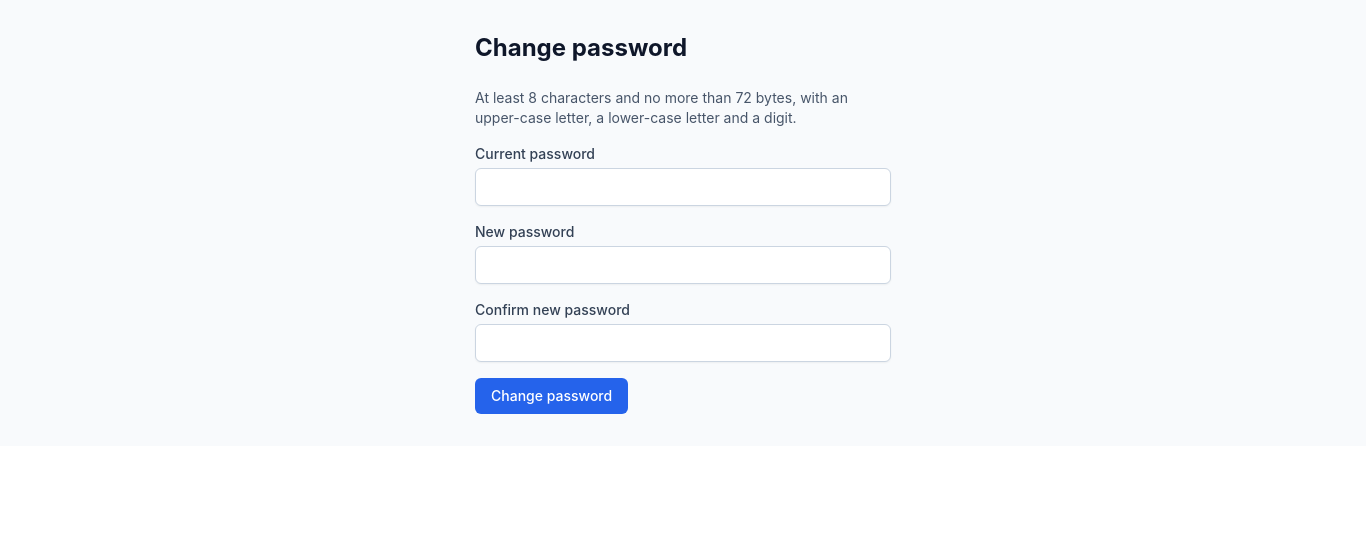
Scenario: ChangePasswordPage › shows the fixed sentence for no-password (HTTP 403) and no server text
In the password field with test id "current-password-input": (683, 187) [475,168,891,206], type "OldPass1"
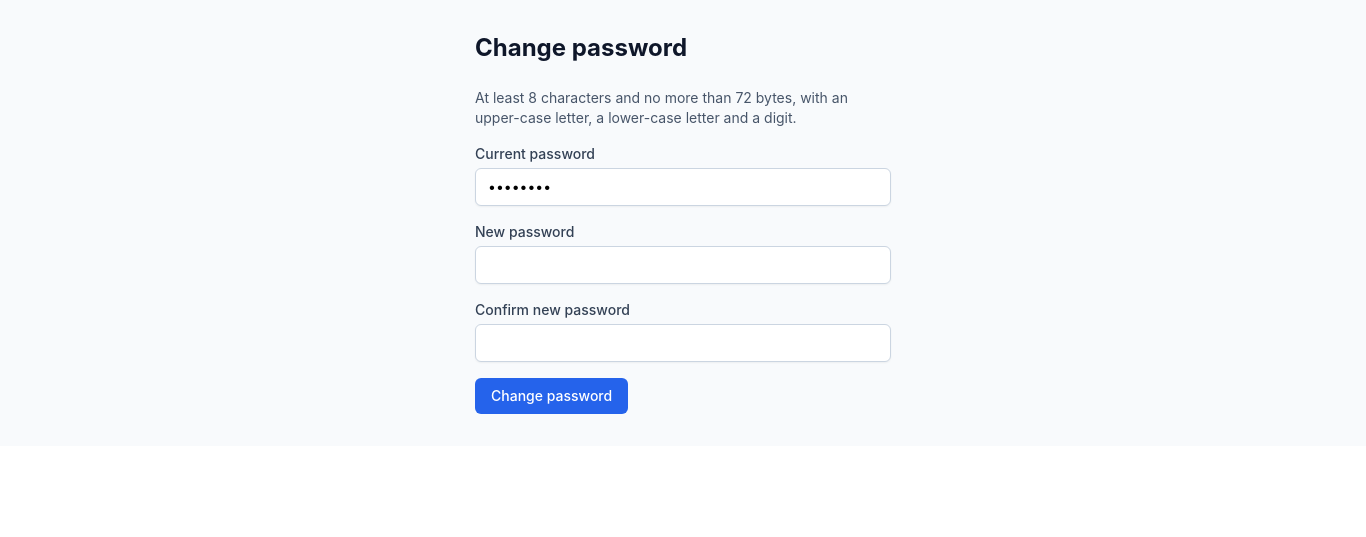
In the password field with test id "new-password-input": (683, 265) [475,246,891,284], type "NewPass12"
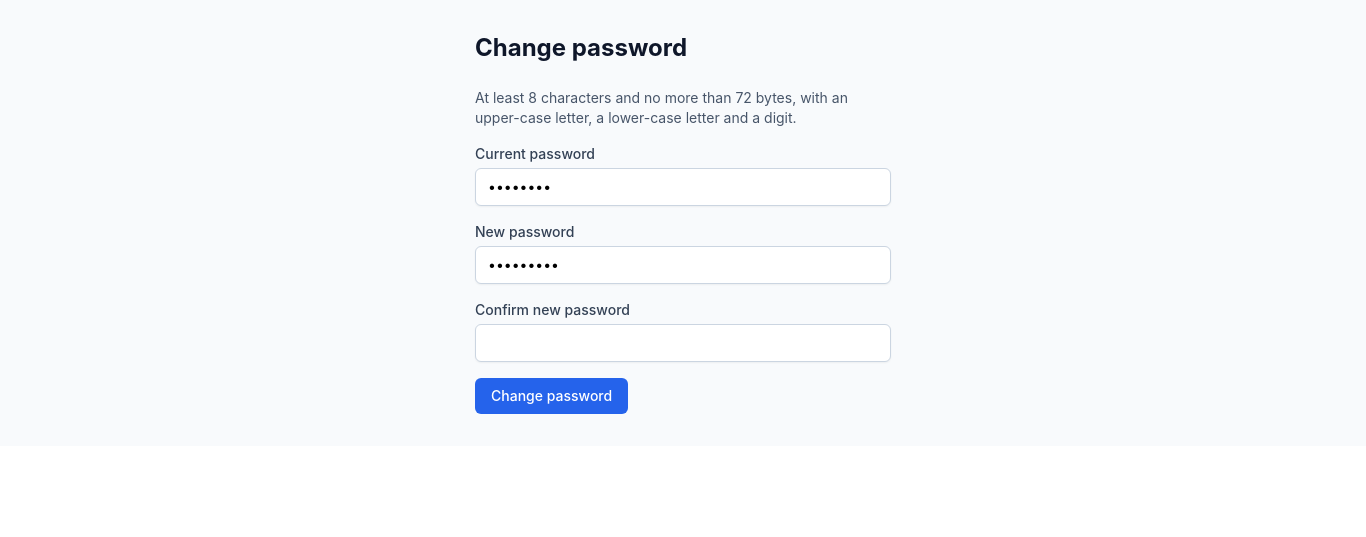
In the password field with test id "confirm-password-input": (683, 343) [475,324,891,362], type "NewPass12"
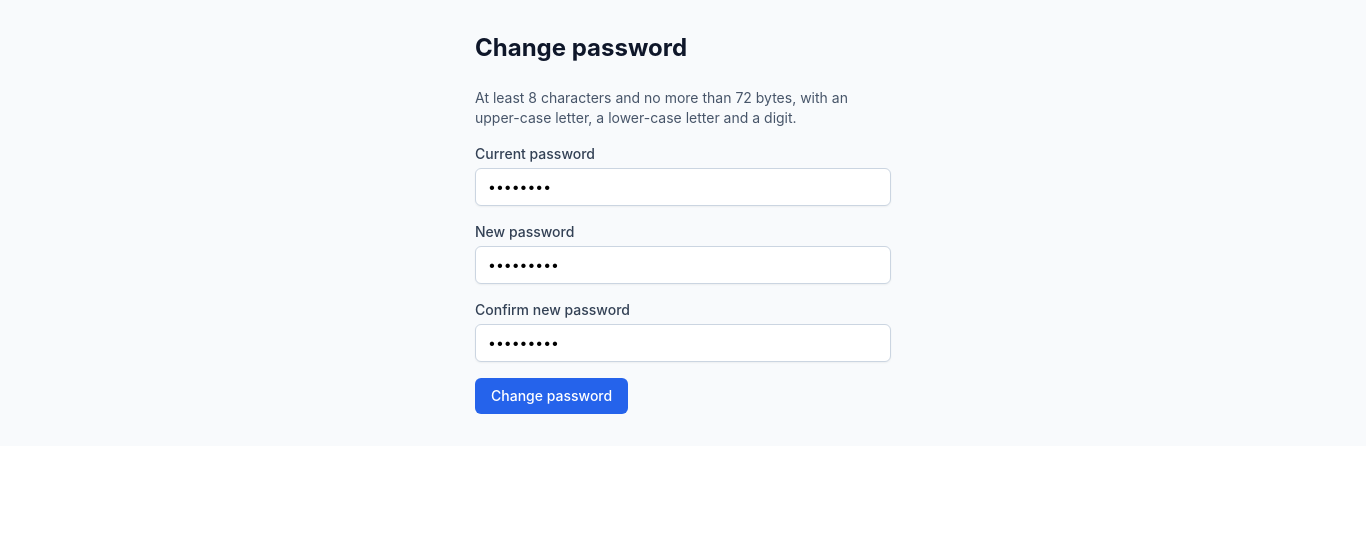
Click the button with test id "change-password-submit": (552, 396) [475,378,628,414]
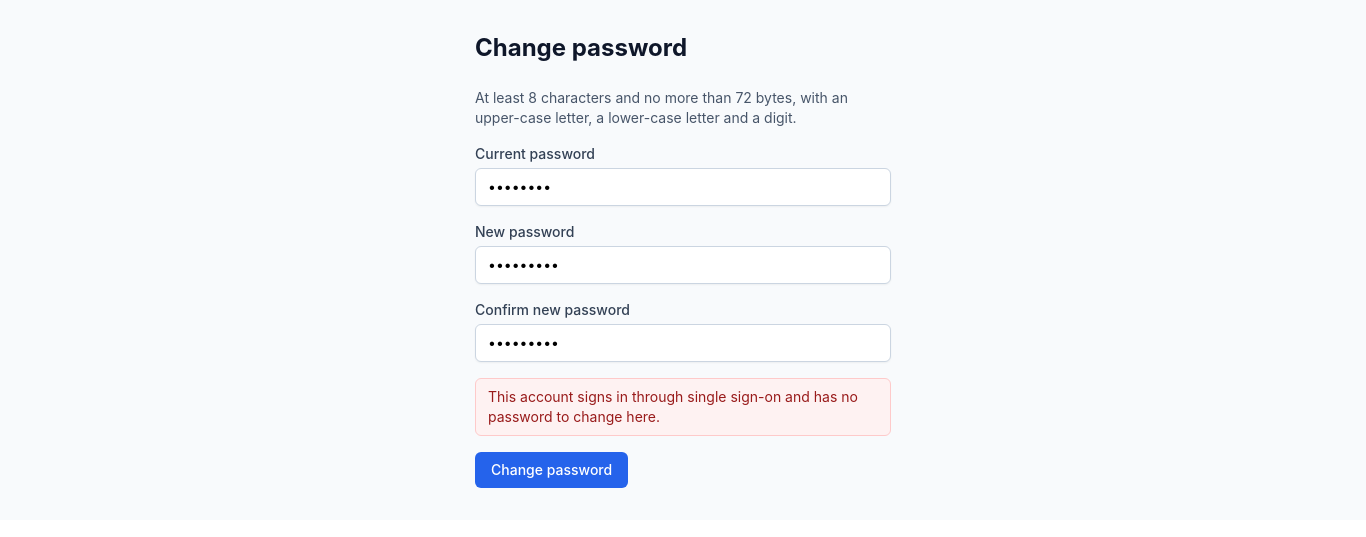
Expected: the message with test id "change-password-outcome" reads "This account signs in through single sign-on and has no password to change here.", [488,388,858,425]
